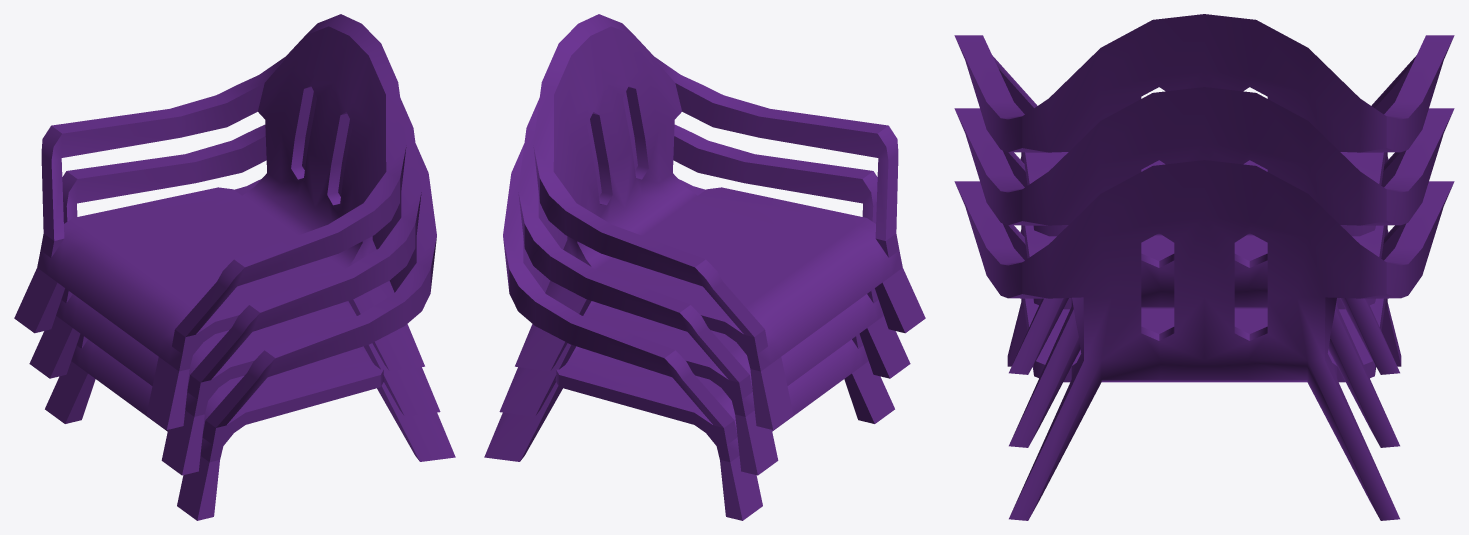
The model's file is fbx_CVS_chair_2.fbx.
The picture shows the model from 3 angles, left to right: view 1: azimuth 30°, elevation 25°; view 2: azimuth 150°, elevation 25°; view 3: azimuth 270°, elevation 25°; orthographic projection. The views are drawn at different scales.
Visible parts, largest first — view 1: fbx_CVS_chair_2; view 2: fbx_CVS_chair_2; view 3: fbx_CVS_chair_2.
Part boxes in pixels (x1,y1,x2,y2): fbx_CVS_chair_2: [14, 14, 455, 520]; fbx_CVS_chair_2: [484, 14, 925, 520]; fbx_CVS_chair_2: [954, 14, 1454, 520].
Size of the model in its own units: 0.6759 by 0.8189 by 0.7518.
1 material, 1 textured.
